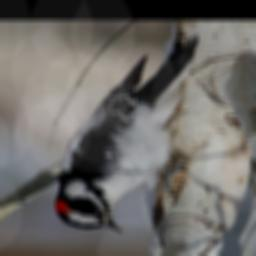Woodpecker: (57, 32, 202, 234)
